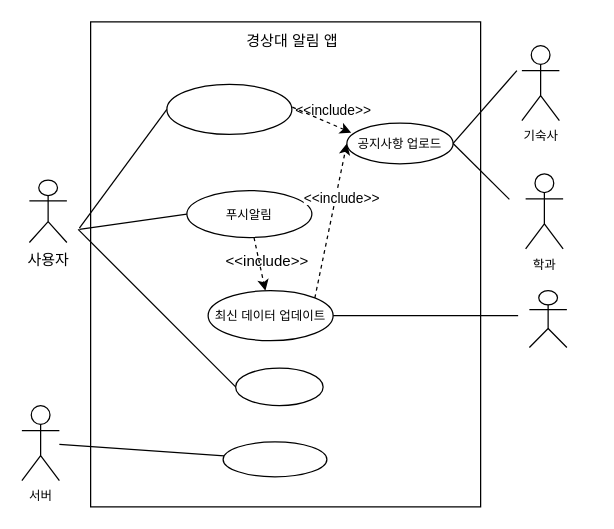
The diagram is 614 pixels wide and 529 high, and some of its shapes have lost their labels. Each missing label, with the centre of its shape:
"공지사항 접속" goes at (x=229, y=108).
"수신동의" goes at (x=278, y=386).
"웹크롤링" goes at (x=274, y=459).
"파이어 베이스" goes at (x=547, y=318).
